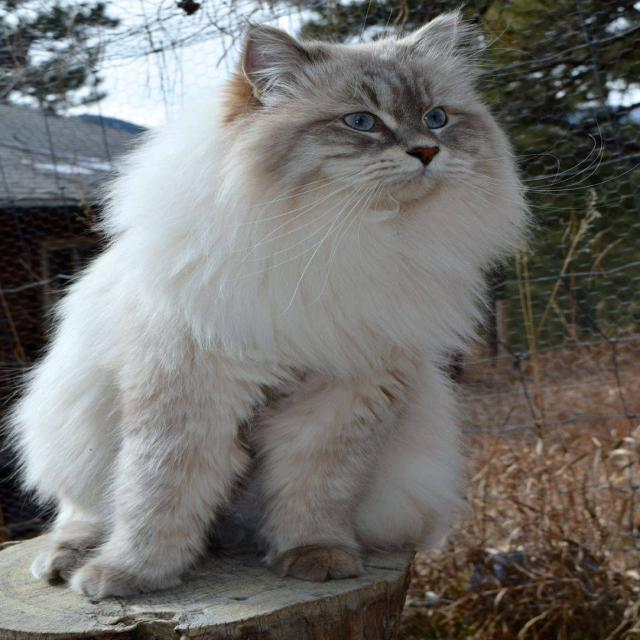Neva Masquerade: (0, 5, 537, 606)
